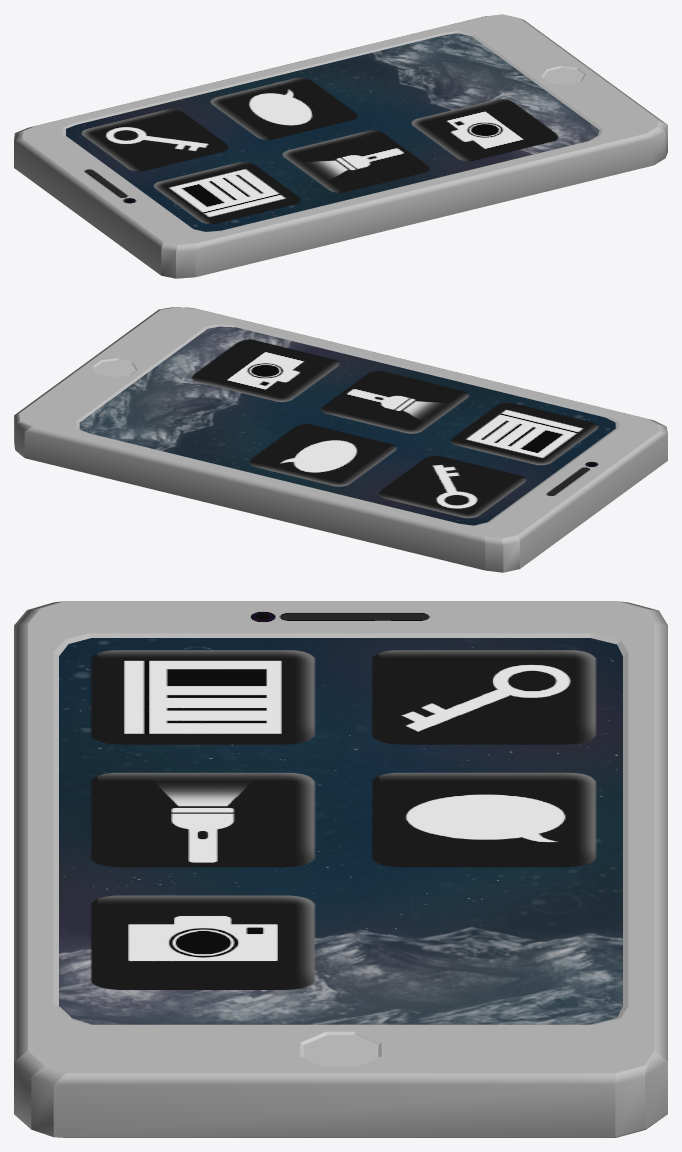
Rendered from Props_Phone-On.fbx.
3 renders of one model, top to bottom at view 1: azimuth 30°, elevation 25°; view 2: azimuth 150°, elevation 25°; view 3: azimuth 270°, elevation 25°, orthographic. The views are drawn at different scales.
Parts seen in each view (by area): view 1: PhoneOn; view 2: PhoneOn; view 3: PhoneOn.
Boxes of the visible parts, bbox=[...] form: PhoneOn: bbox=[14, 14, 667, 278]; PhoneOn: bbox=[14, 307, 667, 572]; PhoneOn: bbox=[14, 601, 667, 1137].
Bounding box in the file's own units: 21.2 × 1.33 × 12.14.
1 material, 1 textured.
